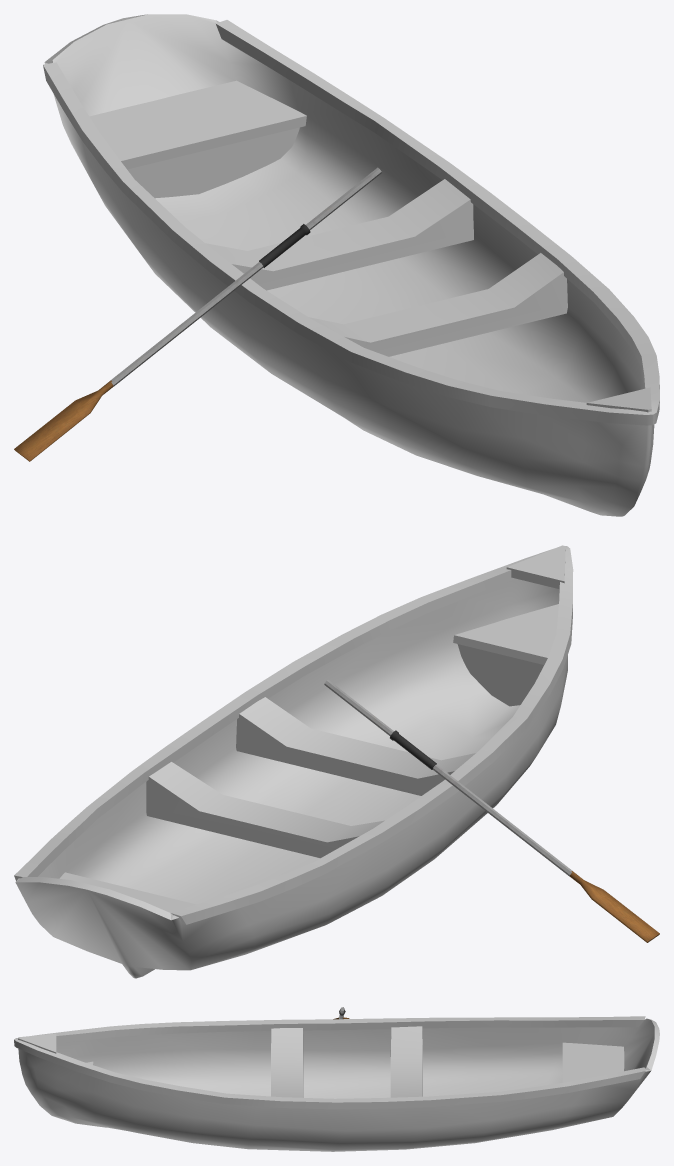
File: boat.FBX
3 views of the same model, one above another, from view 1: azimuth 30°, elevation 25°; view 2: azimuth 150°, elevation 25°; view 3: azimuth 270°, elevation 25° (orthographic). The views are drawn at different scales.
Parts seen in each view (by area): view 1: Object009, object_0; view 2: Object009, object_0; view 3: Object009.
Part boxes in pixels (x1,y1,x2,y2): Object009: (43,14,659,516); object_0: (14,167,381,461); Object009: (14,545,573,978); object_0: (324,680,659,942); Object009: (14,1016,659,1151).
Bounding box in the file's own units: 149 × 57.26 × 271.
